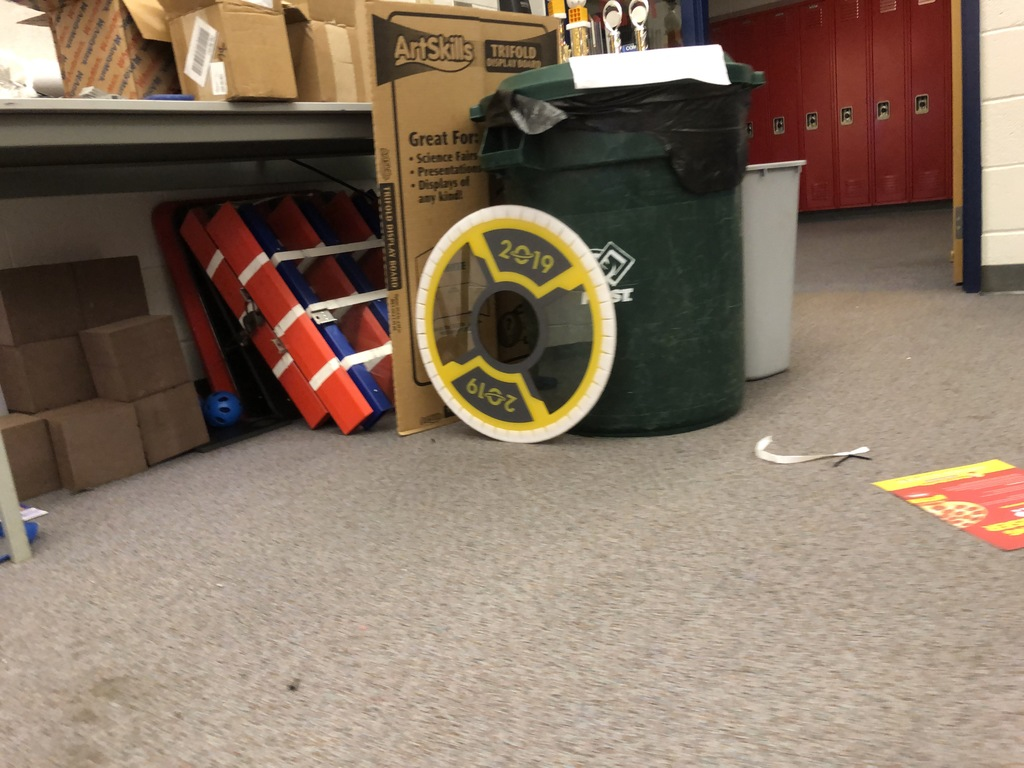hatch_panel: (411, 201, 620, 452)
